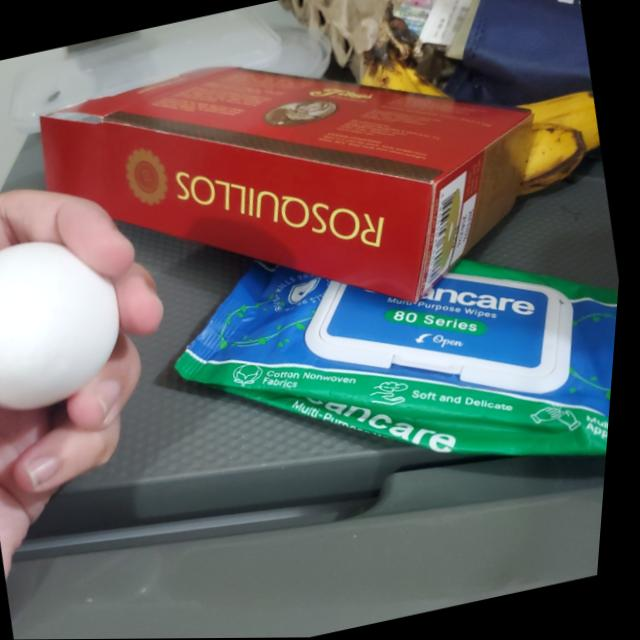egg: (0, 227, 142, 419)
